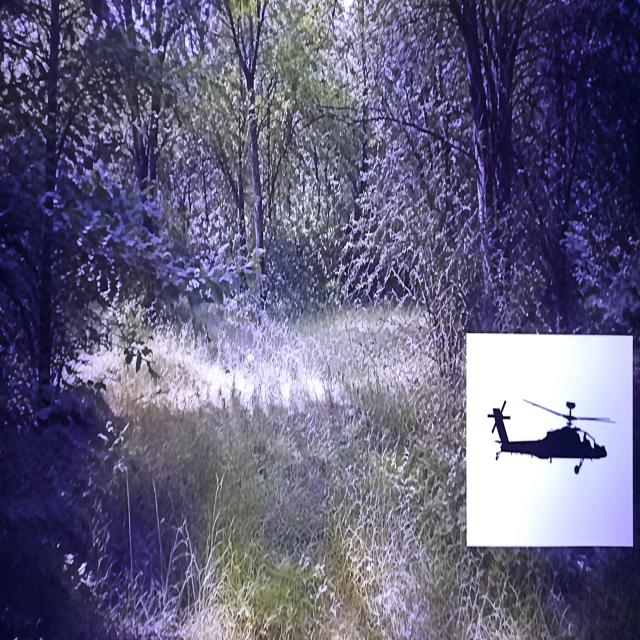Apache friendly: (488, 400, 613, 474)
